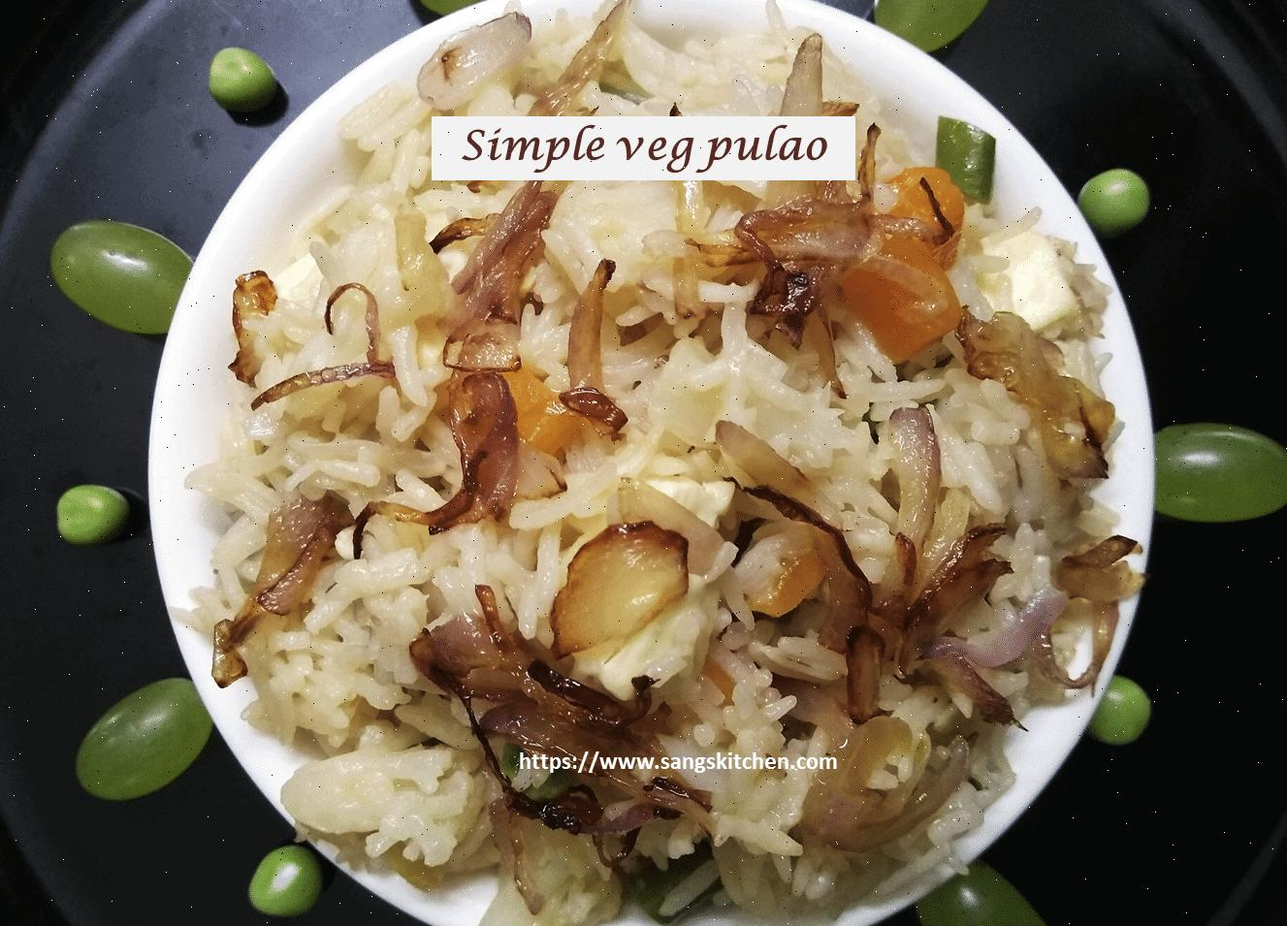veg-pulao: (258, 95, 1065, 848)
